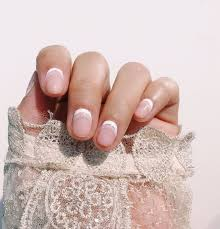nail: (71, 107, 93, 137), (44, 69, 65, 94), (97, 120, 117, 146), (135, 97, 153, 120), (24, 71, 36, 95)
